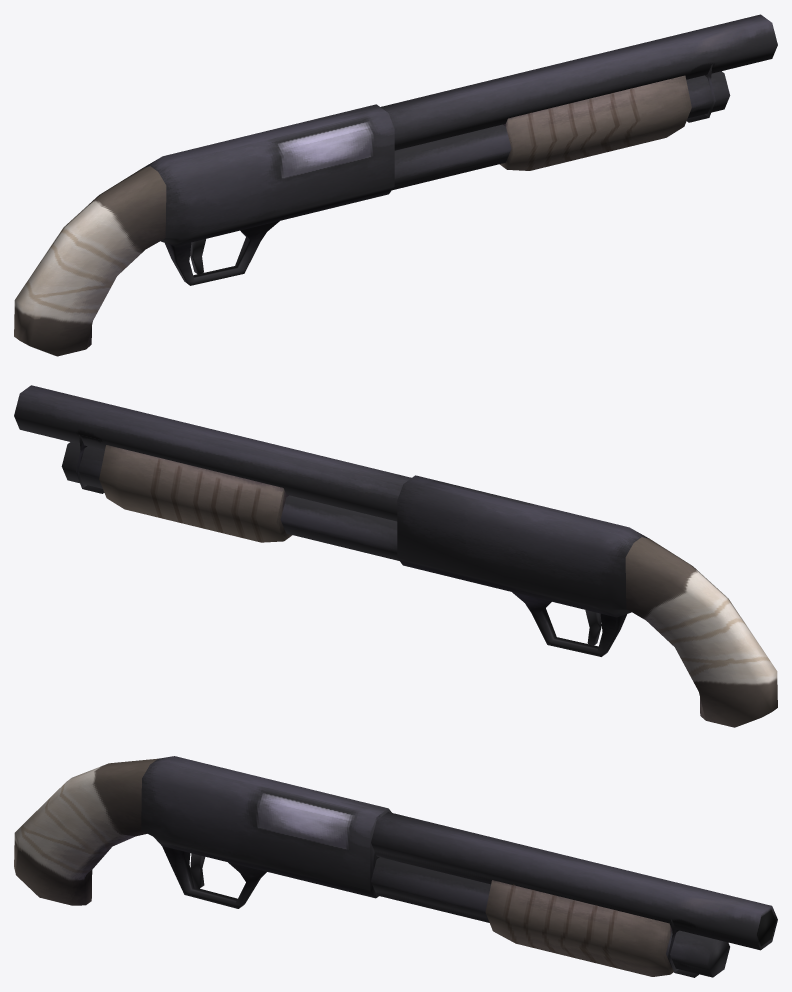
Rendered from Shotgun.fbx.
3 views of the same model, one above another, from view 1: azimuth 30°, elevation 25°; view 2: azimuth 150°, elevation 25°; view 3: azimuth 330°, elevation 25° (orthographic).
Visible parts, largest first — view 1: shotgun.001; view 2: shotgun.001; view 3: shotgun.001.
Part boxes in pixels (bbox=[...]): shotgun.001: bbox=[14, 14, 777, 356]; shotgun.001: bbox=[14, 385, 777, 727]; shotgun.001: bbox=[14, 756, 777, 977].
Bounding box in the file's own units: 109 × 7.55 × 22.62.
1 material, 1 textured.
